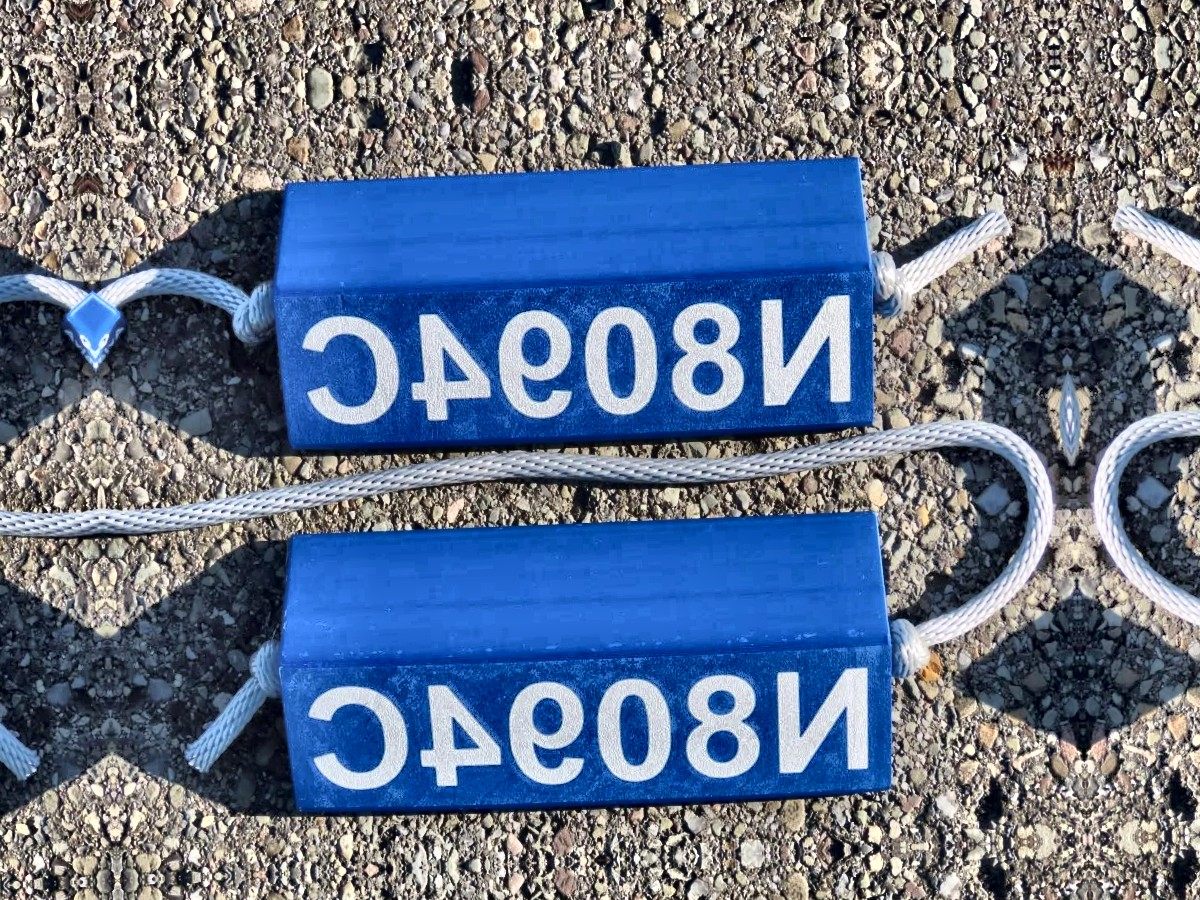chock: (274, 500, 901, 821), (273, 147, 883, 456)
